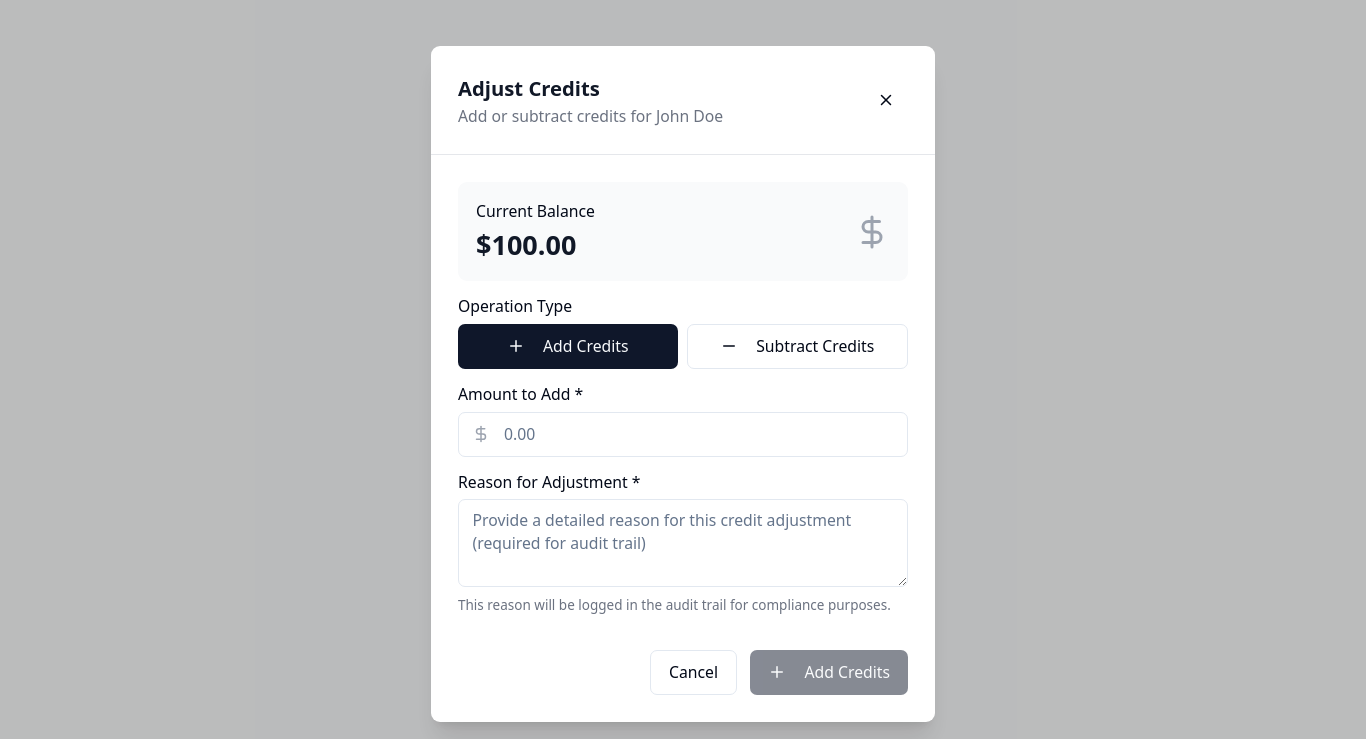
CreditAdjustModal › shows balance preview for subtraction
This screenshot has width=1366, height=739.
# Switch to subtract mode
Click the button "Subtract Credits": (797, 346) [686,324,908,369]
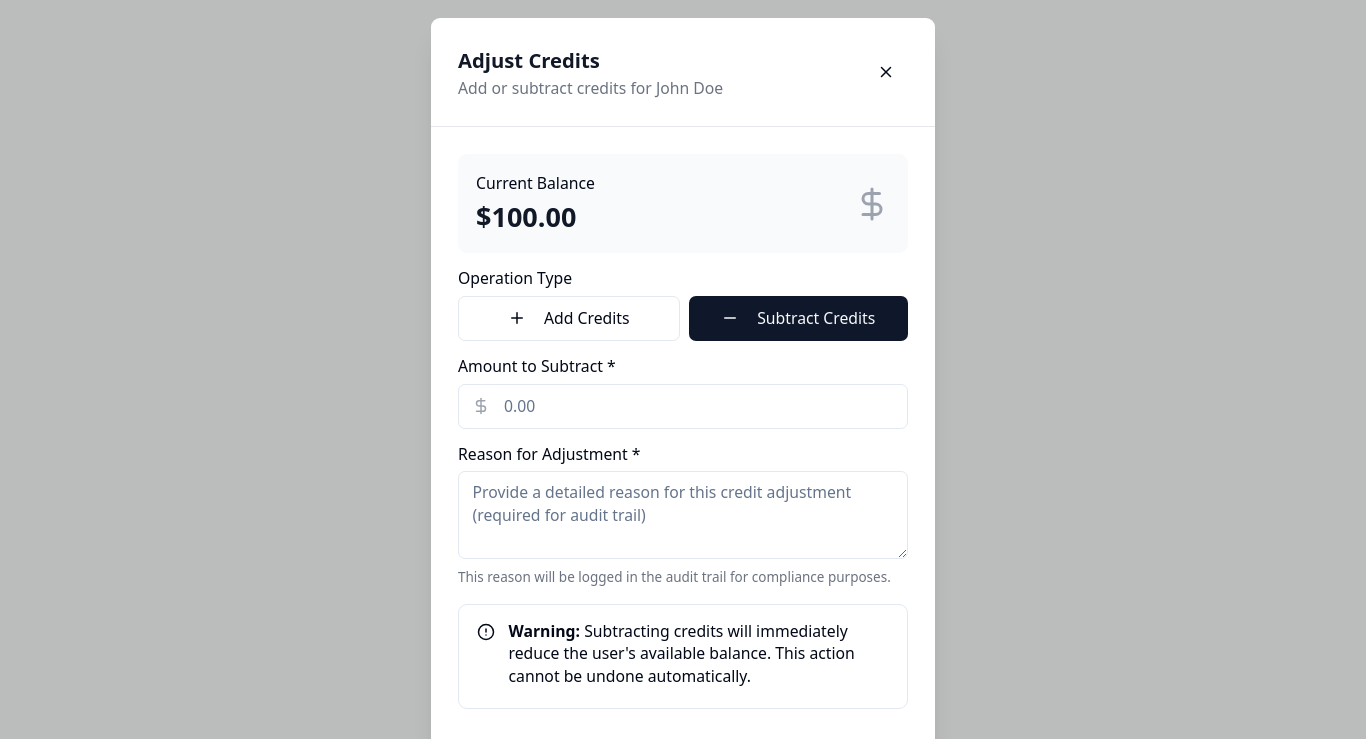
In the number field with placeholder "0.00": (683, 406) [458,384,908,428], type "25"
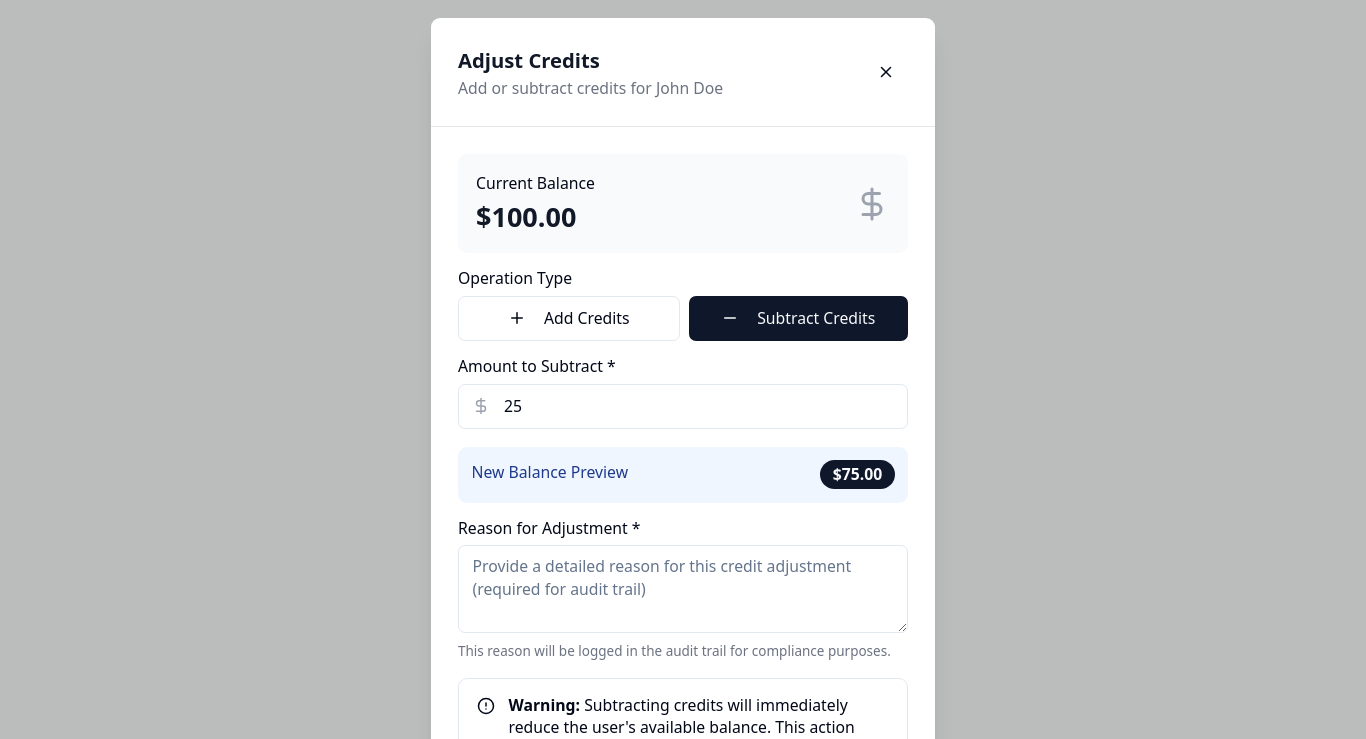
Check: the text "$75.00" is shown, box [820,460,894,489]
